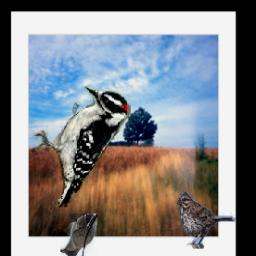Cuckoo: (60, 215, 97, 256)
Sparrow: (177, 191, 237, 250)
Woodpecker: (29, 87, 131, 208)
